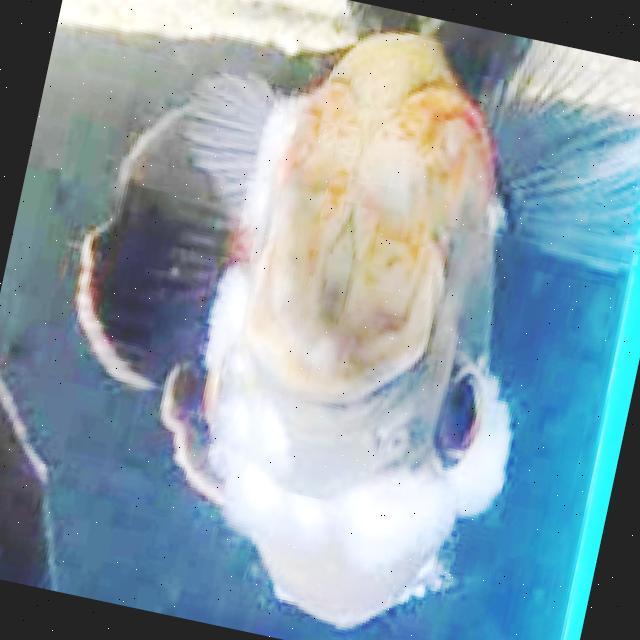Fungal Disease -Saprolegniasis-: (79, 33, 509, 626), (161, 34, 508, 626), (162, 33, 507, 625), (162, 35, 507, 626)
